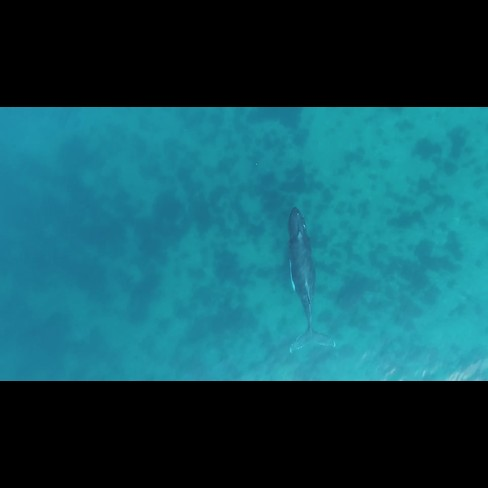hump: (277, 200, 340, 360)
